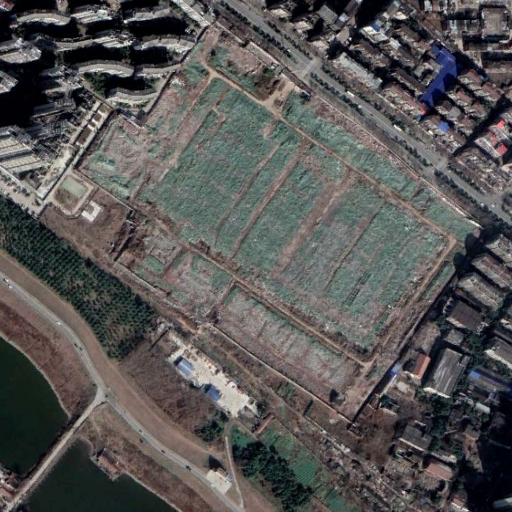cw: (73, 25, 482, 421)
